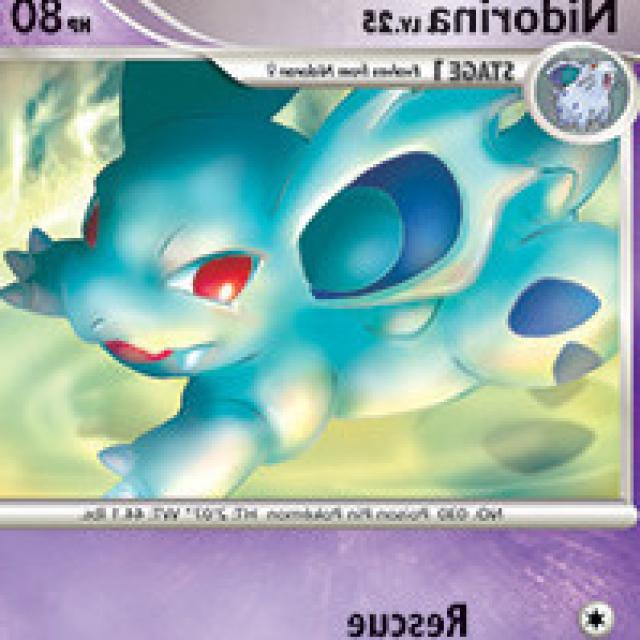Nidorina: (0, 80, 586, 486)
